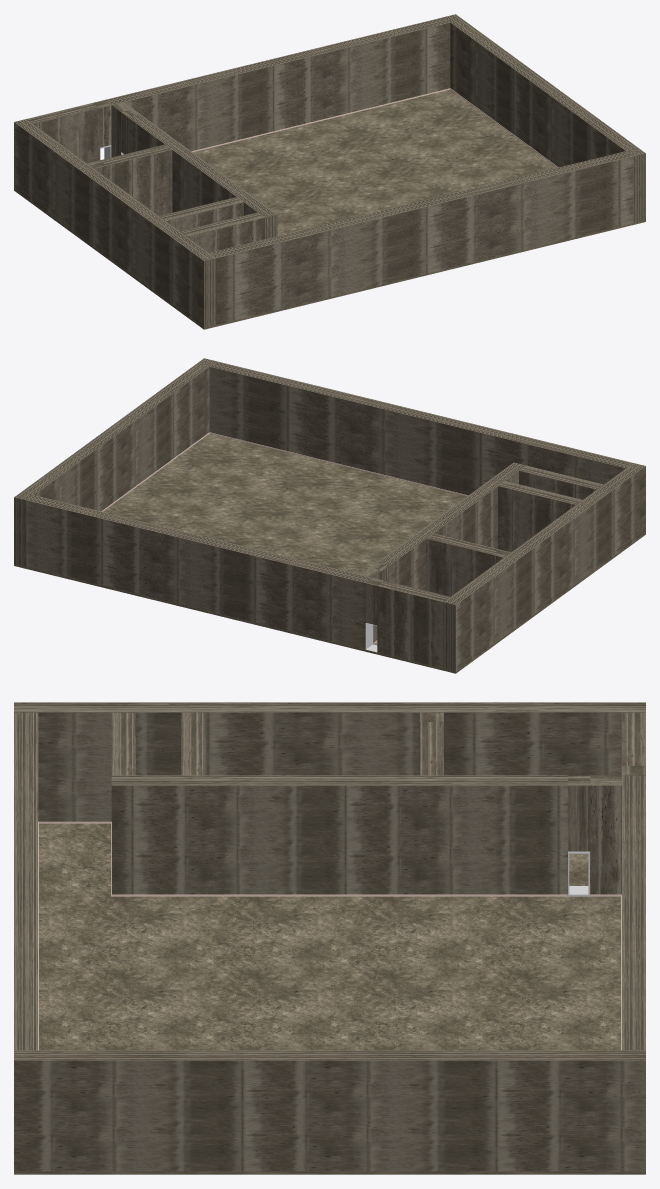
Rendered from FIRSTLEVELTEXTURED.fbx.
3 views of the same model, one above another, from view 1: azimuth 30°, elevation 25°; view 2: azimuth 150°, elevation 25°; view 3: azimuth 270°, elevation 25° (orthographic). The views are drawn at different scales.
Visible parts, largest first — view 1: Cube.003, Cube, Cube.004, Cube.002, Cube.001, Cube.007, Cube.016, Cube.006, Cube.011, Cube.012, Cube.010, Cube.005 (+1 smaller); view 2: Cube, Cube.004, Cube.003, Cube.002, Cube.001, Cube.007, Cube.006, Cube.012, Cube.016, Cube.011, Cube.005, Cube.018; view 3: Cube, Cube.001, Cube.007, Cube.002, Cube.003, Cube.004, Cube.010, Cube.009, Cube.012, Cube.011, Cube.020, Cube.006 (+1 smaller).
Boxes of the visible parts, <box> form: Cube.003: <box>210,151,633,324</box>; Cube: <box>14,89,645,329</box>; Cube.004: <box>104,17,450,156</box>; Cube.002: <box>14,119,216,327</box>; Cube.001: <box>443,14,645,222</box>; Cube.007: <box>127,114,277,238</box>; Cube.016: <box>99,144,172,215</box>; Cube.006: <box>27,103,99,163</box>; Cube.011: <box>180,212,264,252</box>; Cube.012: <box>159,197,243,230</box>; Cube.010: <box>111,102,133,157</box>; Cube.005: <box>93,100,111,147</box>; Cube: <box>14,433,645,673</box>; Cube.004: <box>26,495,372,649</box>; Cube.003: <box>209,361,632,495</box>; Cube.002: <box>443,463,645,671</box>; Cube.001: <box>14,358,216,566</box>; Cube.007: <box>377,462,525,590</box>; Cube.006: <box>377,580,449,668</box>; Cube.012: <box>498,481,582,551</box>; Cube.016: <box>426,533,498,596</box>; Cube.011: <box>519,465,603,499</box>; Cube.005: <box>365,578,383,625</box>; Cube.018: <box>209,432,468,496</box>; Cube: <box>14,823,645,1174</box>; Cube.001: <box>14,1050,645,1171</box>; Cube.007: <box>111,775,567,895</box>; Cube.002: <box>14,702,645,821</box>; Cube.003: <box>14,712,38,1050</box>; Cube.004: <box>621,775,645,1050</box>; Cube.010: <box>590,775,621,894</box>; Cube.009: <box>568,775,590,851</box>; Cube.012: <box>181,712,205,775</box>; Cube.011: <box>111,712,135,775</box>; Cube.020: <box>111,894,567,896</box>; Cube.006: <box>621,712,645,765</box>.
Size of the model in its own units: 4782 by 709 by 3564.
